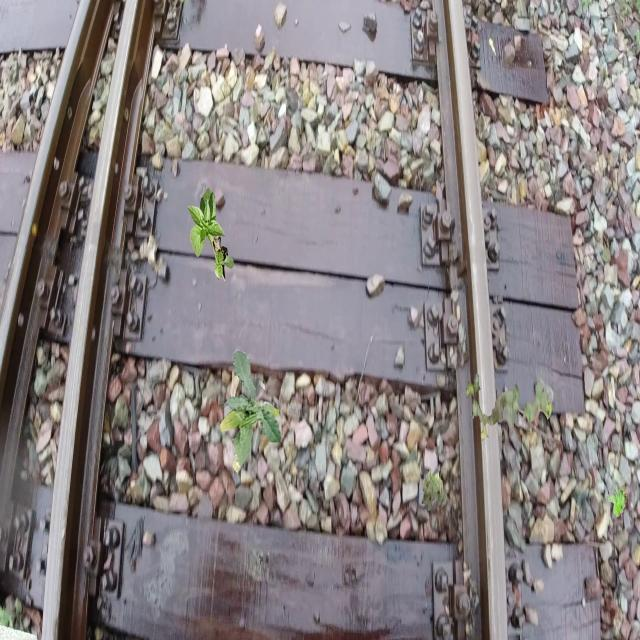Plant: (219, 349, 282, 474), (466, 373, 552, 442), (187, 187, 235, 282), (422, 469, 448, 512), (606, 484, 626, 517)
